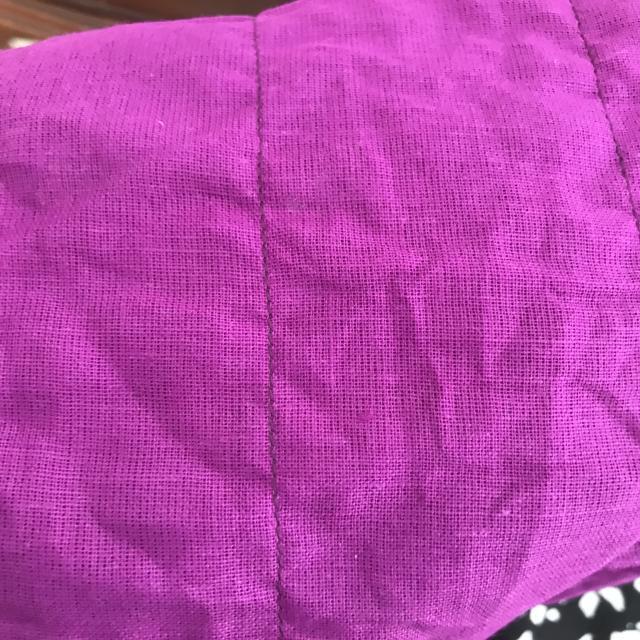good: (240, 458, 310, 566), (246, 298, 291, 392)
